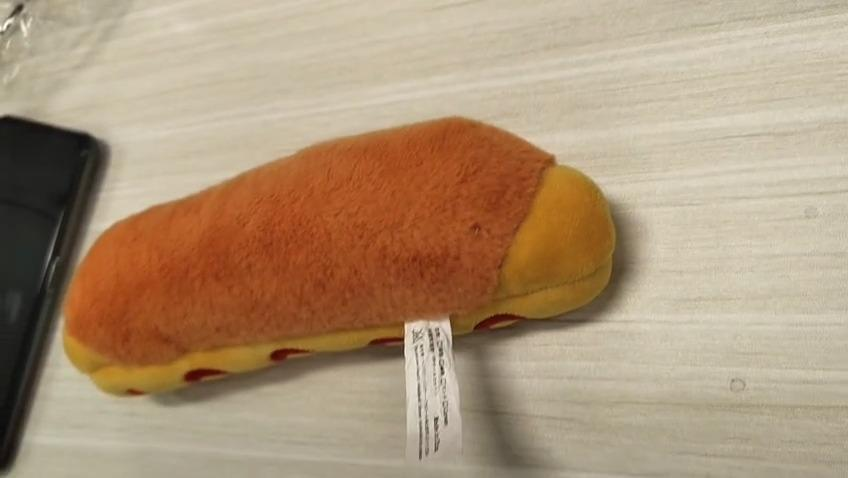hotdog: (62, 118, 616, 395)
